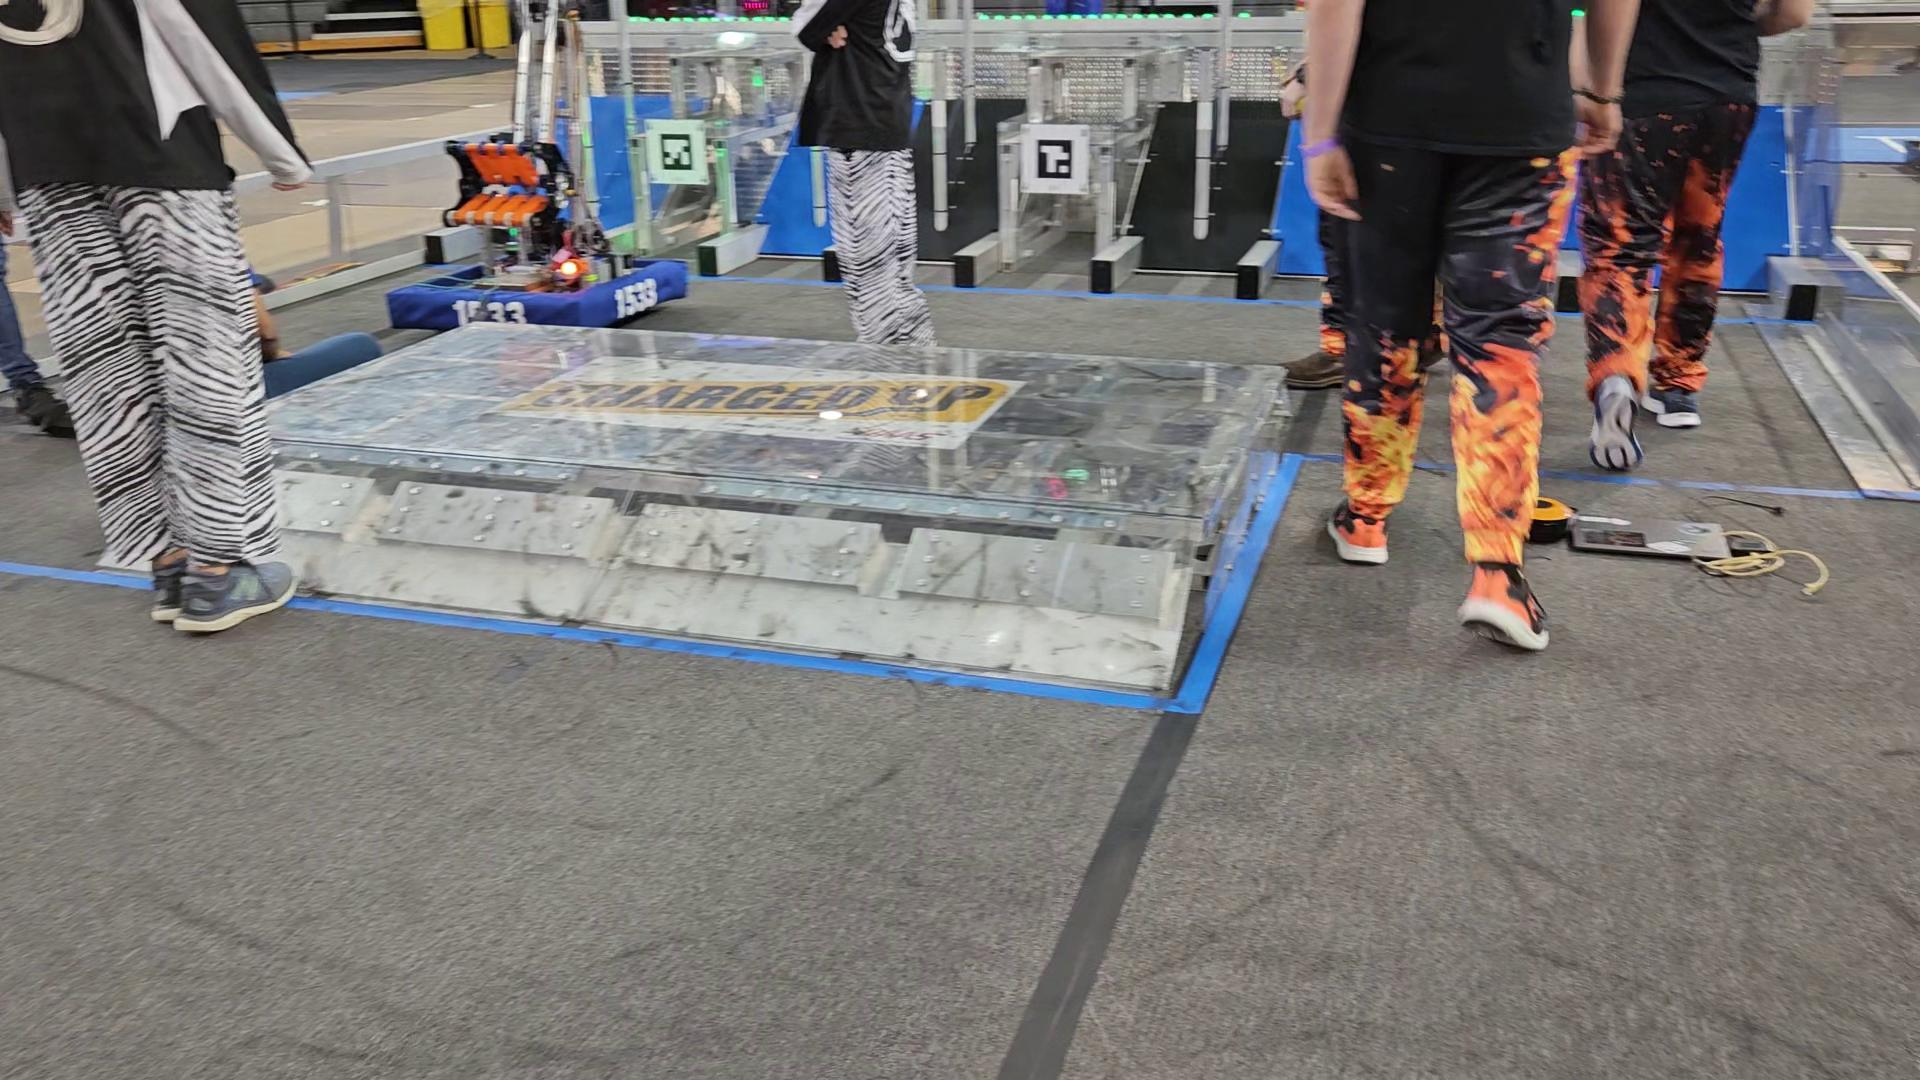robot: (404, 58, 699, 320)
